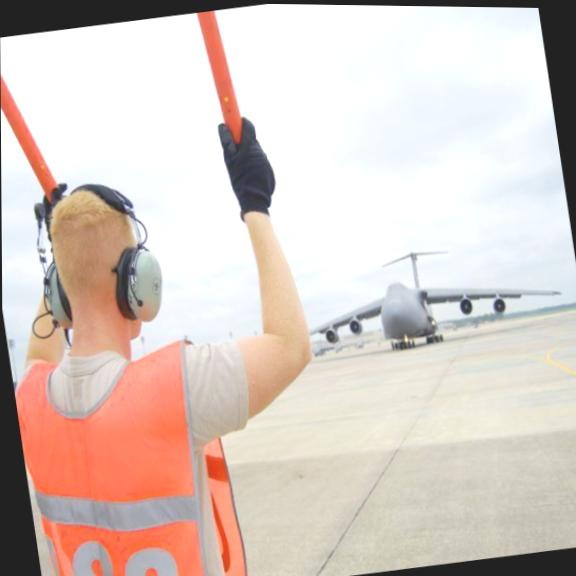safety_vest: (8, 322, 256, 576)
